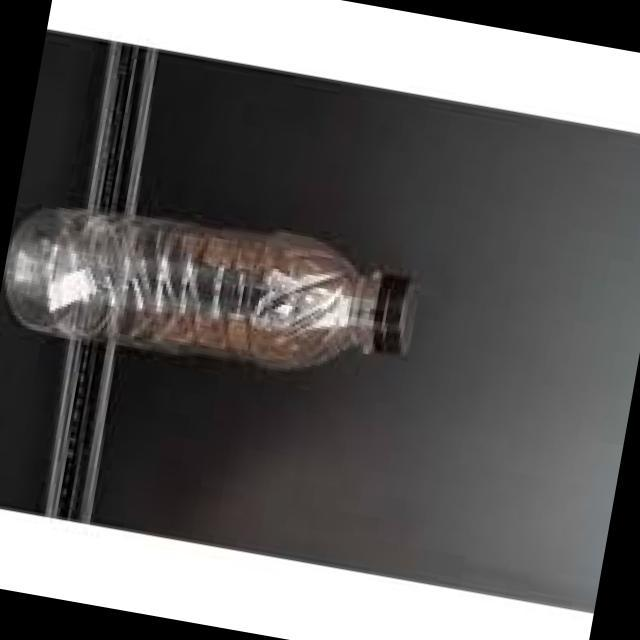good: (0, 151, 451, 416)
